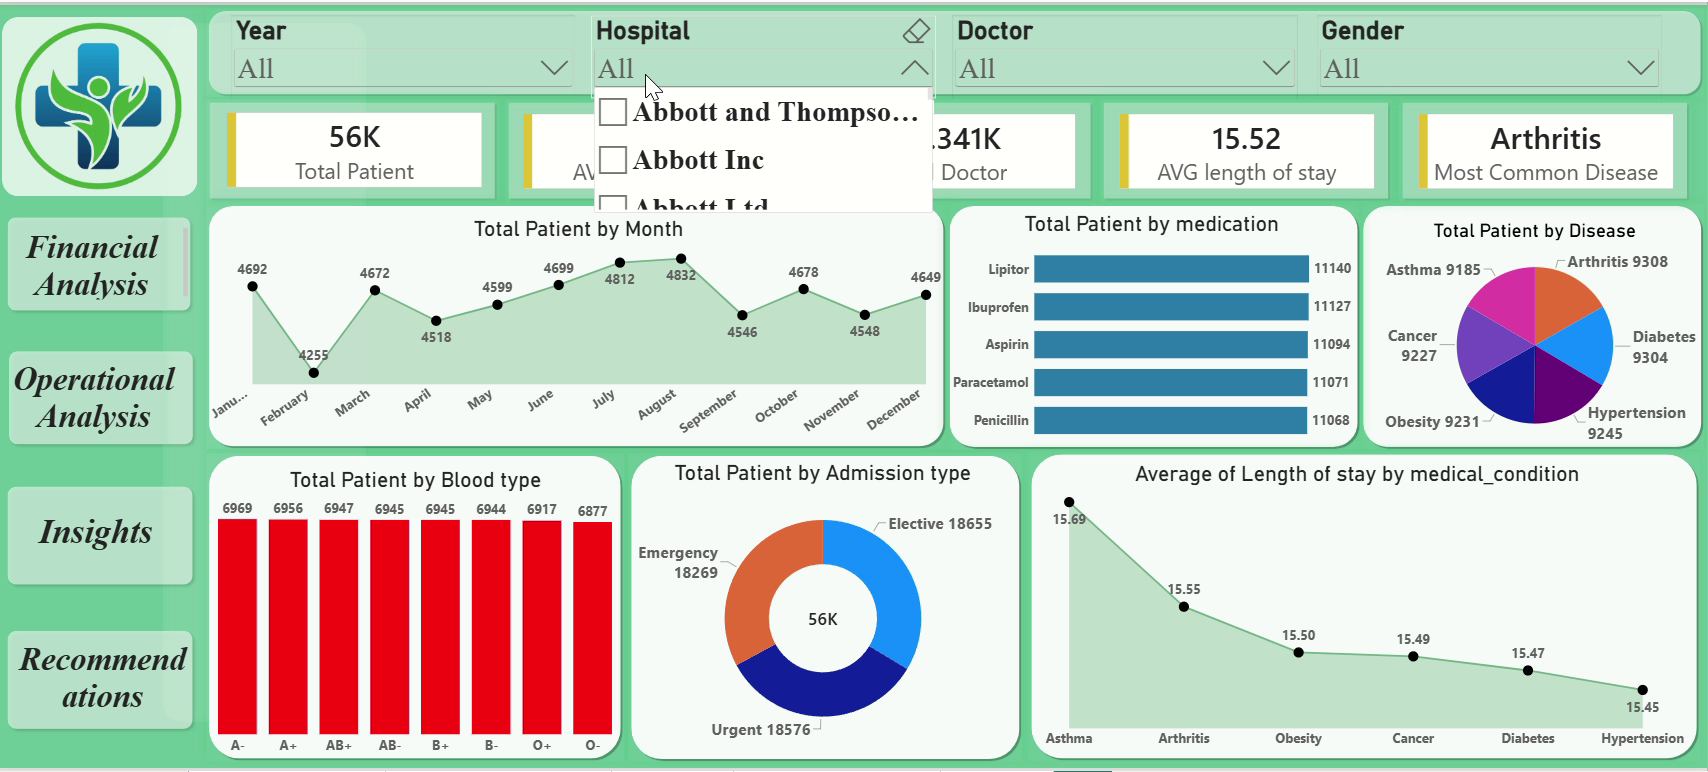

Layout of this report page (visuals, bound fields, positions):
{"tool":"powerbi","page":{"name":"Operational Analysis","canvas":[2800,1250],"ordinal":1},"visuals":[{"type":"shape","box":[7.3,558.2,319.3,170.6],"z":0},{"type":"shape","box":[5,337.9,318,171],"z":1000},{"type":"shape","box":[268.1,29.2,333.9,1145.6],"z":2000},{"type":"shape","box":[2230,323.9,564,404.9],"z":3000},{"type":"shape","box":[1315.4,153,478.9,170],"z":4000},{"type":"shape","box":[2294.2,153,478.9,170],"z":5000},{"type":"shape","box":[829.5,153,478.9,170],"z":6000},{"type":"shape","box":[338.8,4.9,2454.5,146.2],"z":7000},{"type":"textbox","box":[0,365.6,309.6,117],"z":8000},{"type":"textbox","box":[0,582.5,309.6,124.3],"z":9000},{"type":"shape","box":[6,19,320.3,294],"z":10000},{"type":"image","box":[3,29,320.3,294.1],"z":11000},{"type":"slicer","fields":{"Values":["Date.Date.Variation.Date Hierarchy.Year"]},"box":[379.8,16,564.3,136.4],"z":12000},{"type":"slicer","fields":{"Values":["public healthcare_dataset.hospital"]},"box":[970.7,16.3,565.4,137.3],"z":13000},{"type":"slicer","fields":{"Values":["public healthcare_dataset.doctor"]},"box":[1562.2,16.3,565.4,137.3],"z":14000},{"type":"slicer","fields":{"Values":["public healthcare_dataset.gender"]},"box":[2160.3,16.3,565.4,137.3],"z":15000},{"type":"cardVisual","fields":{"Data":["Avg(public healthcare_dataset.age)"]},"box":[857.3,177,419,124.4],"z":16000},{"type":"cardVisual","fields":{"Data":["public healthcare_dataset.Most Common Medical Condition"]},"box":[2325.4,177,419,124.9],"z":17000},{"type":"cardVisual","fields":{"Data":["Count(public healthcare_dataset.doctor)"]},"box":[1346.7,177,419,124],"z":18000},{"type":"shape","box":[339.9,153,480,169.9],"z":19000},{"type":"shape","box":[1804.8,153,478.9,170],"z":20000},{"type":"cardVisual","fields":{"Data":["public healthcare_dataset.Total Patient"]},"box":[373,176,419,124],"z":21000},{"type":"cardVisual","fields":{"Data":["Avg(public healthcare_dataset.Average length of stay)"]},"box":[1836,177,419,124],"z":22000},{"type":"shape","box":[338,324,1213.8,404],"z":23000},{"type":"lineChart","title":"Total Patient by Month","fields":{"Category":["Date.Date.Variation.Date Hierarchy.Month"],"Y":["public healthcare_dataset.Total Patient"]},"box":[323.9,332.3,1250.9,404.9],"z":24000},{"type":"pieChart","title":"Total Patient by Disease","fields":{"Category":["public healthcare_dataset.medical_condition"],"Y":["public healthcare_dataset.Total Patient"]},"box":[2237.6,336.4,558.2,409.5],"z":25000},{"type":"shape","box":[1552.5,323.9,678.5,404.9],"z":26000},{"type":"barChart","fields":{"Y":["public healthcare_dataset.Total Patient"],"Category":["public healthcare_dataset.medication"]},"box":[1544.2,323.9,686.9,421.6],"z":27000},{"type":"shape","box":[338.8,733,684.9,506],"z":28000},{"type":"shape","box":[1031,733.7,645.9,507],"z":29000},{"type":"shape","box":[1686.6,731.6,1100.2,508.2],"z":30000},{"type":"columnChart","title":"Total Patient by Blood type","fields":{"Category":["public healthcare_dataset.blood_type"],"Y":["public healthcare_dataset.Total Patient"]},"box":[309.9,742.8,745.5,505.4],"z":31000},{"type":"donutChart","title":"Total Patient by Admission type","fields":{"Category":["public healthcare_dataset.admission_type"],"Y":["public healthcare_dataset.Total Patient"]},"box":[1023.9,732.3,652.5,510.2],"z":32000},{"type":"lineChart","fields":{"Category":["public healthcare_dataset.medical_condition"],"Y":["Avg(public healthcare_dataset.Length of stay)"]},"box":[1662.3,733.7,1126.1,504.5],"z":33000},{"type":"shape","box":[5.6,779.1,321.1,178.7],"z":34000},{"type":"shape","box":[5.6,1016.4,321.1,178.7],"z":35000},{"type":"textbox","box":[8,831.7,302.2,66.9],"z":36000},{"type":"textbox","box":[29.4,1040.3,280.8,155.1],"z":37000},{"type":"actionButton","box":[11.2,1030.4,312.7,153.6],"z":38000},{"type":"actionButton","box":[8.4,793,312.7,153.6],"z":39000},{"type":"actionButton","box":[8.4,343.5,312.7,153.6],"z":40000}]}

Visuals, with their boxes in screenshot pixels (x1, y1, x2, y2), scaled from the page's 2800x1250 canvas onto the 1708x772 screenshot:
shape: 4:345:199:450
shape: 3:209:197:314
shape: 164:18:367:726
shape: 1360:200:1704:450
shape: 802:94:1095:199
shape: 1399:94:1692:199
shape: 506:94:798:199
shape: 207:3:1704:93
textbox: 0:226:189:298
textbox: 0:360:189:437
shape: 4:12:199:193
image: 2:18:197:200
slicer - Date.Date.Variation.Date Hierarchy.Year: 232:10:576:94
slicer - public healthcare_dataset.hospital: 592:10:937:95
slicer - public healthcare_dataset.doctor: 953:10:1298:95
slicer - public healthcare_dataset.gender: 1318:10:1663:95
cardVisual - Avg(public healthcare_dataset.age): 523:109:779:186
cardVisual - public healthcare_dataset.Most Common Medical Condition: 1418:109:1674:186
cardVisual - Count(public healthcare_dataset.doctor): 821:109:1077:186
shape: 207:94:500:199
shape: 1101:94:1393:199
cardVisual - public healthcare_dataset.Total Patient: 228:109:483:185
cardVisual - Avg(public healthcare_dataset.Average length of stay): 1120:109:1376:186
shape: 206:200:947:450
"Total Patient by Month" lineChart: 198:205:961:455
"Total Patient by Disease" pieChart: 1365:208:1705:461
shape: 947:200:1361:450
barChart - public healthcare_dataset.Total Patient x public healthcare_dataset.medication: 942:200:1361:460
shape: 207:453:624:765
shape: 629:453:1023:766
shape: 1029:452:1700:766
"Total Patient by Blood type" columnChart: 189:459:644:771
"Total Patient by Admission type" donutChart: 625:452:1023:767
lineChart - public healthcare_dataset.medical_condition x Avg(public healthcare_dataset.Length of stay): 1014:453:1701:765
shape: 3:481:199:592
shape: 3:628:199:738
textbox: 5:514:189:555
textbox: 18:642:189:738
actionButton: 7:636:198:731
actionButton: 5:490:196:585
actionButton: 5:212:196:307
